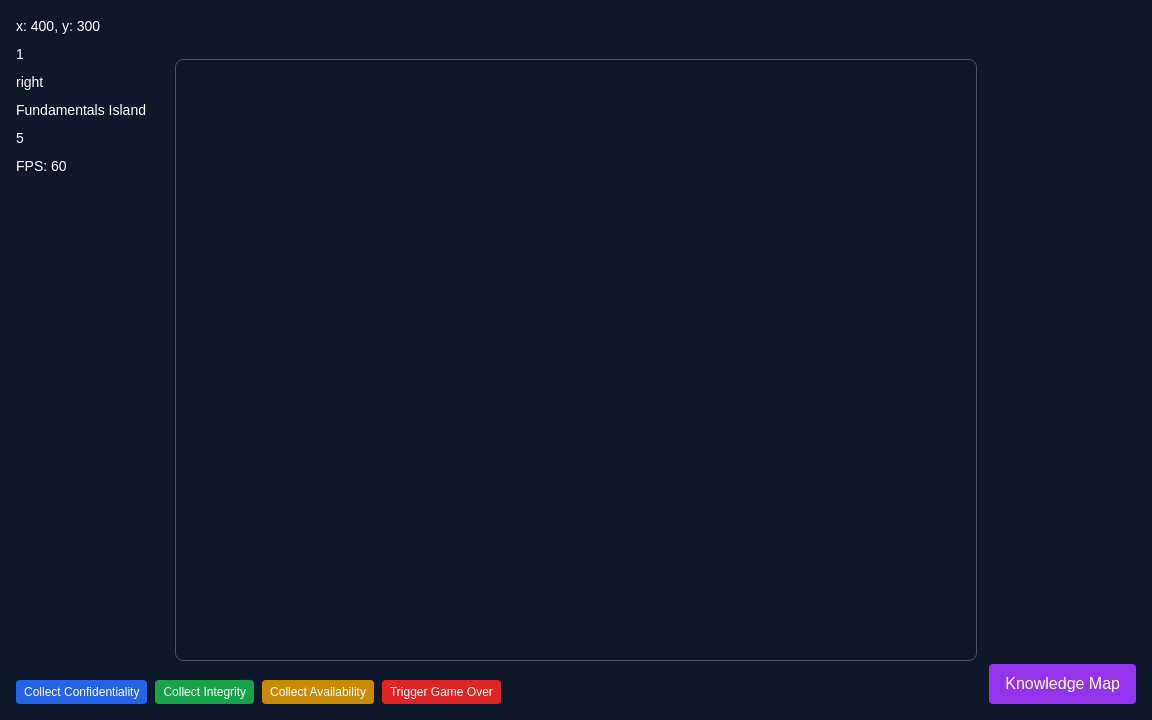
Test: CyberKnowledgeSnakeGame - Core Game Mechanics › Knowledge Orb Collection › should increase snake length when collecting knowledge orb
Expected: the text with test id "snake-length" reads "1", [16,46,24,62]
Simulate collecting a knowledge orb
Step 1. Click the button with test id "collect-orb-confidentiality" → (82, 692), box [16,680,147,704]
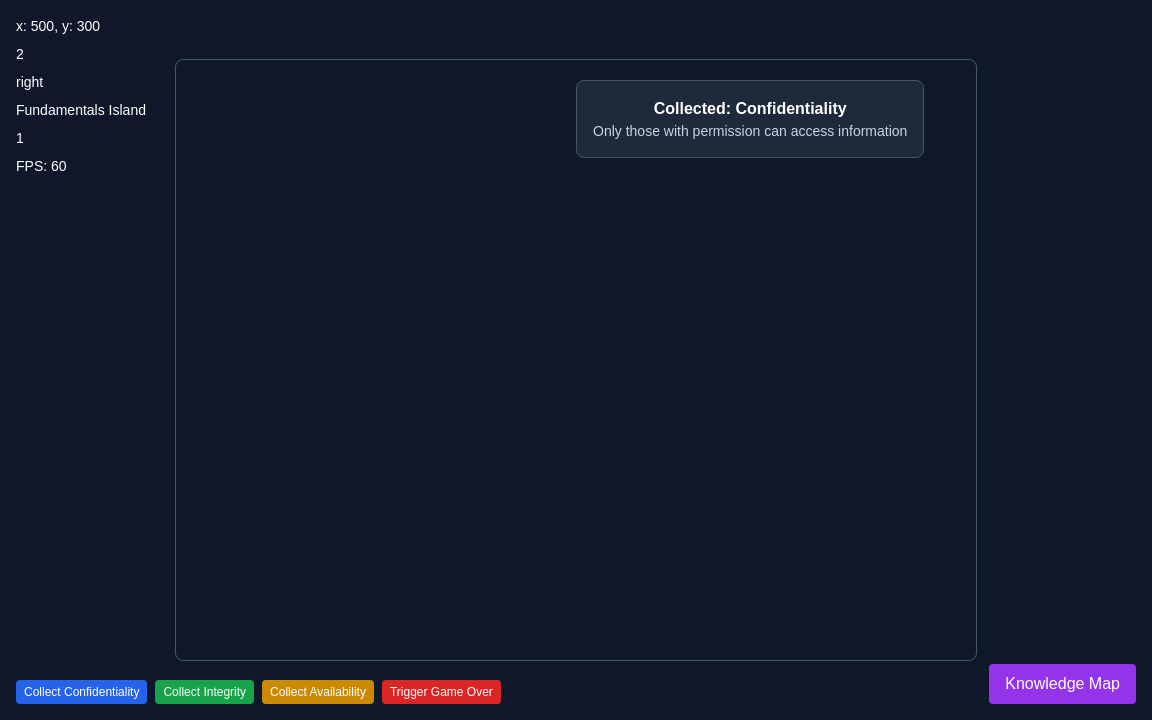
Expected: the text with test id "snake-length" reads "2", [16,46,24,62]
